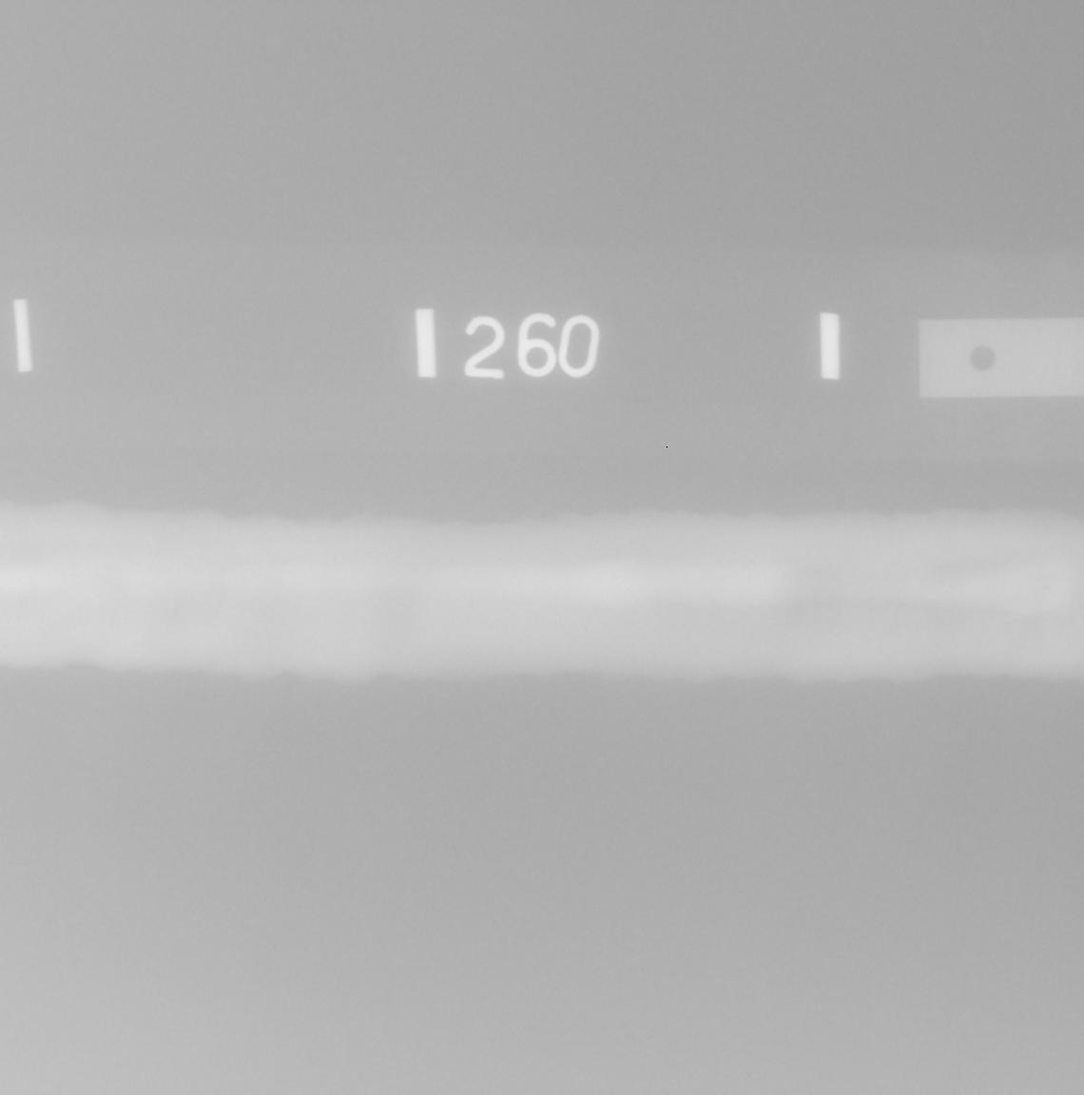Inclusion: (1042, 585, 1051, 592), (71, 574, 80, 578)
Pore/Porosity: (938, 579, 943, 583)
